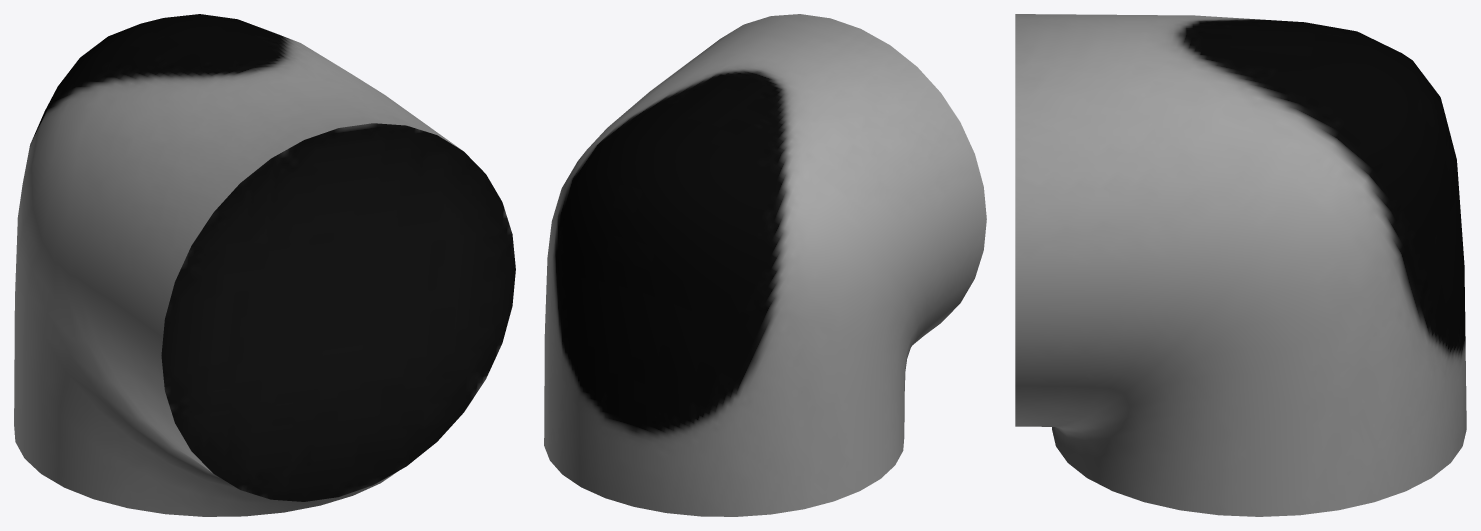
Rendered from wrist1_2.obj.
The picture shows the model from 3 angles, left to right: view 1: azimuth 30°, elevation 25°; view 2: azimuth 150°, elevation 25°; view 3: azimuth 270°, elevation 25°; orthographic projection. The views are drawn at different scales.
Size of the model in its own units: 0.0902 by 0.0951 by 0.0982.
1 material, 1 textured.
